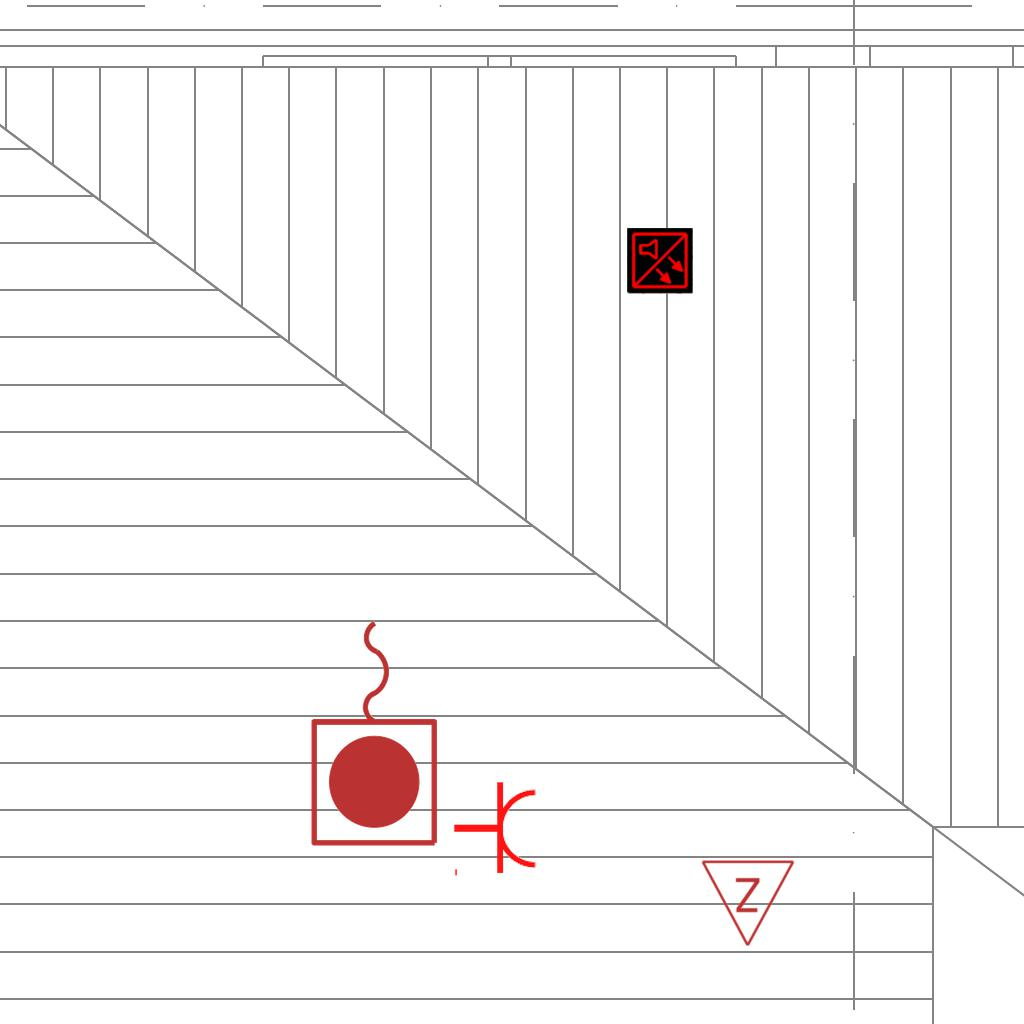OKW_Multisensormelder_(Kombination_optischer_Rauch-Kahlenmonoxid_Waerme-Melder): (627, 228, 693, 294)
Schukosteckdose_einfach: (452, 780, 539, 880)
Zimmersignalleuchte: (700, 853, 798, 953)
Zugtaster: (304, 610, 448, 854)
